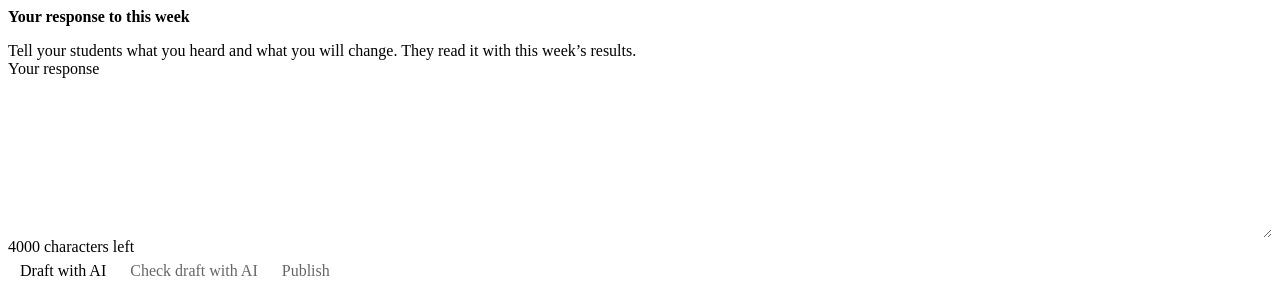
nothing posts without the publish button › publishes exactly once, when Publish is pressed
The width and height of the screenshot is (1280, 303).
Type "We heard you on pacing." into the text box labelled "Your response". click: (640, 158)
box: [8,78,1272,238]
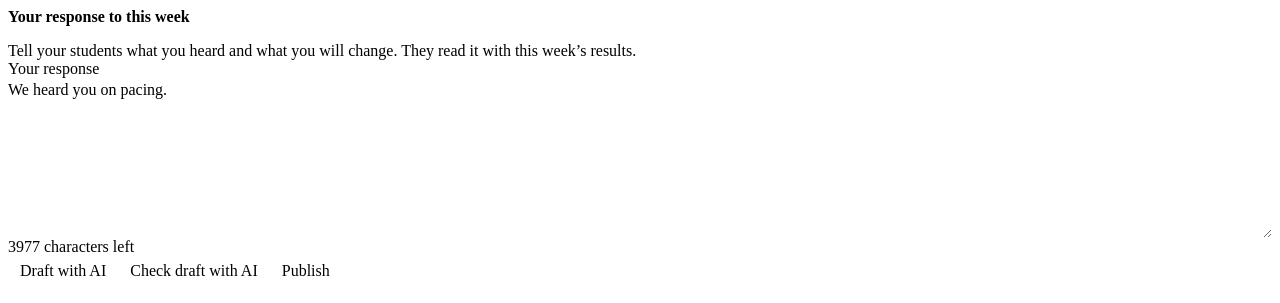
Click the button "Publish". click: click(306, 271)
box: [270,256,342,286]
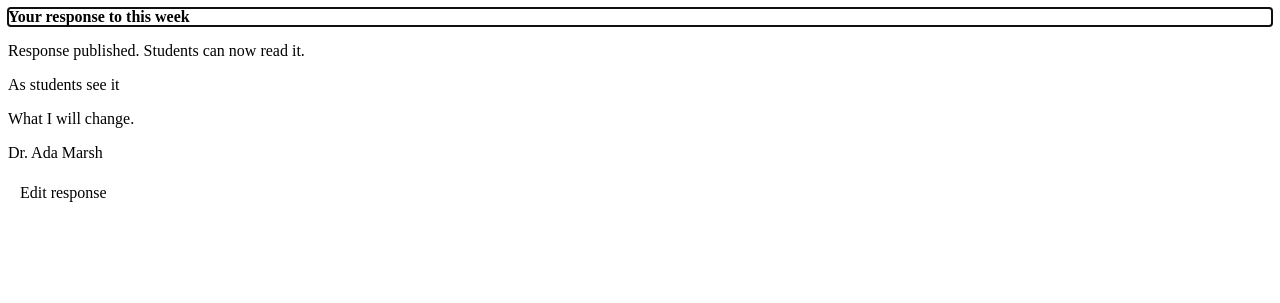
Expected: the text "Dr. Ada Marsh" is shown, [8,144,103,161]
